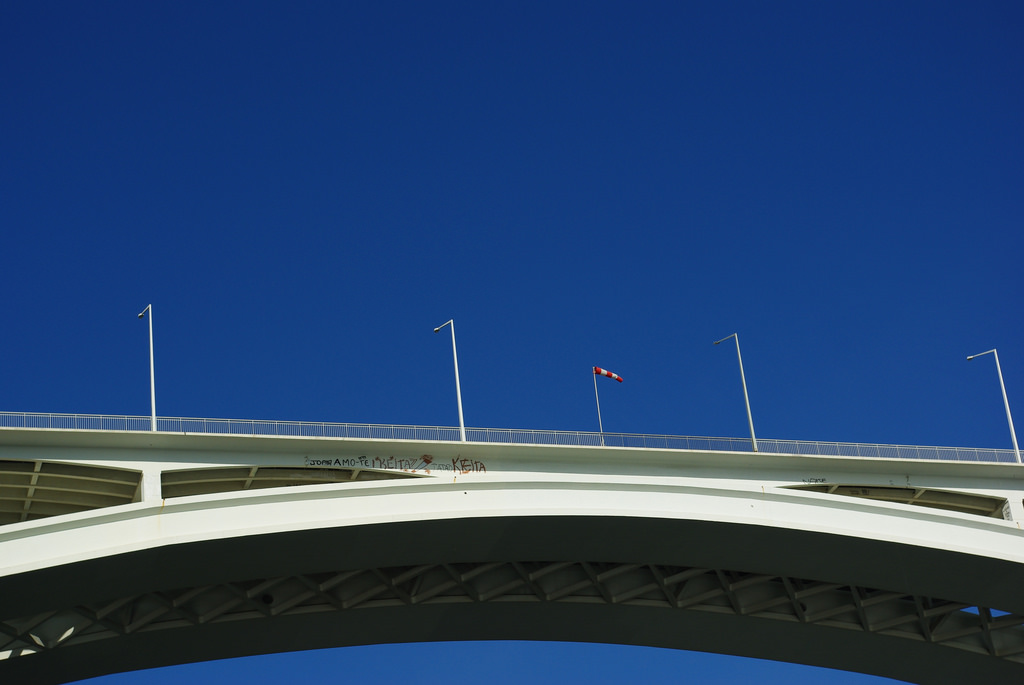arrabida: (0, 422, 1023, 684)
